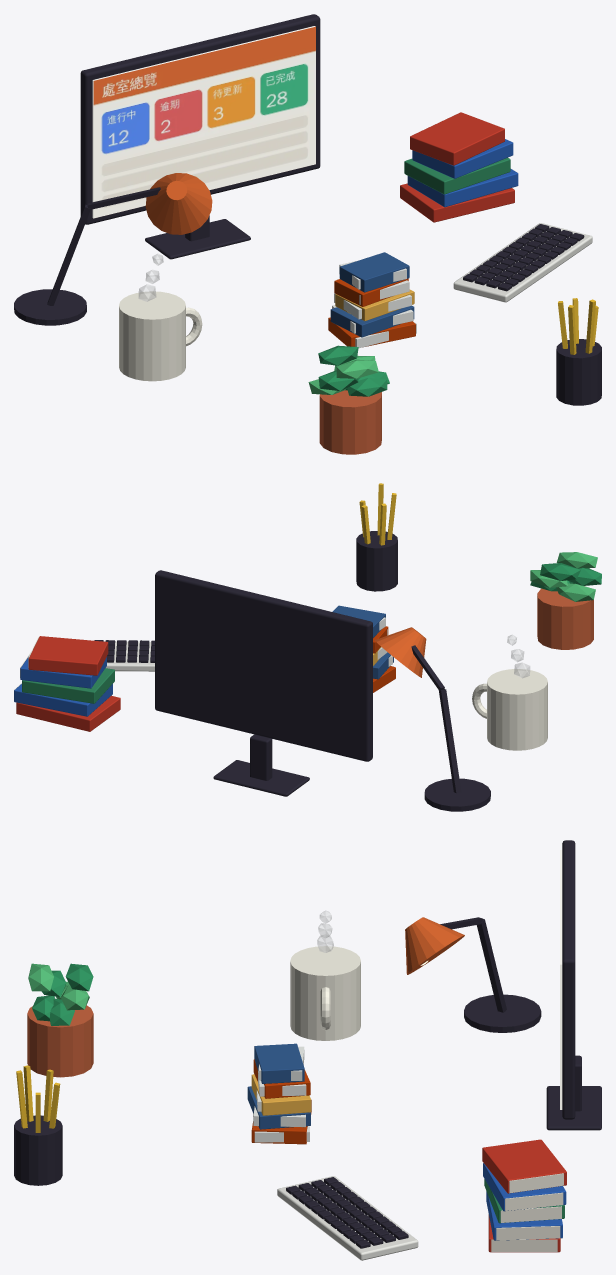
Rendered from env_admin.glb.
The picture shows the model from 3 angles, top to bottom: view 1: azimuth 30°, elevation 25°; view 2: azimuth 150°, elevation 25°; view 3: azimuth 270°, elevation 25°; orthographic projection. The views are drawn at different scales.
Visible parts, largest first — view 1: env_monitor_screen, env_plastic_d, env_mug, env_book_r, env_pot, env_lamp_shade, env_book_b, env_cr_b2, env_plastic_l, env_leaf_dark, env_white, env_book_g (+4 smaller); view 2: env_plastic_d, env_mug, env_book_r, env_pot, env_book_b, env_book_g, env_leaf, env_lamp_shade, env_leaf_dark, env_pencil_y, env_cr_b2, env_plastic_l (+2 smaller); view 3: env_plastic_d, env_mug, env_pages, env_pot, env_book_r, env_cr_b2, env_plastic_l, env_lamp_shade, env_leaf_dark, env_pencil_y, env_book_b, env_white (+4 smaller).
Boxes of the visible parts, x1,y1,x2,y2 form: env_monitor_screen: (92, 26, 315, 218); env_plastic_d: (14, 14, 601, 405); env_mug: (119, 291, 202, 381); env_book_r: (400, 112, 514, 222); env_pot: (319, 390, 381, 454); env_lamp_shade: (145, 173, 212, 234); env_book_b: (407, 139, 518, 207); env_cr_b2: (330, 252, 414, 337); env_plastic_l: (453, 223, 592, 302); env_leaf_dark: (318, 345, 389, 396); env_white: (332, 260, 416, 348); env_book_g: (404, 157, 510, 194); env_plastic_d: (94, 531, 490, 811); env_mug: (472, 669, 547, 750); env_book_r: (16, 636, 120, 731); env_pot: (537, 588, 593, 649); env_book_b: (14, 656, 112, 716); env_book_g: (22, 668, 114, 703); env_leaf: (530, 552, 597, 601); env_lamp_shade: (374, 627, 426, 677); env_leaf_dark: (530, 563, 601, 591); env_pencil_y: (359, 483, 396, 545); env_cr_b2: (332, 605, 393, 679); env_plastic_l: (104, 641, 154, 671); env_plastic_d: (14, 840, 601, 1248); env_mug: (290, 946, 360, 1040); env_pages: (491, 1173, 563, 1251); env_pot: (27, 1005, 93, 1077); env_book_r: (482, 1139, 566, 1252); env_cr_b2: (247, 1043, 310, 1129); env_plastic_l: (277, 1176, 418, 1260); env_lamp_shade: (405, 917, 464, 974); env_leaf_dark: (32, 963, 93, 1025); env_pencil_y: (16, 1065, 60, 1132); env_book_b: (483, 1163, 566, 1240); env_white: (253, 1046, 309, 1142).
Size of what is drawn, in the model's own units: 55.88 by 21 by 53.2.
4 materials, 4 textured.
